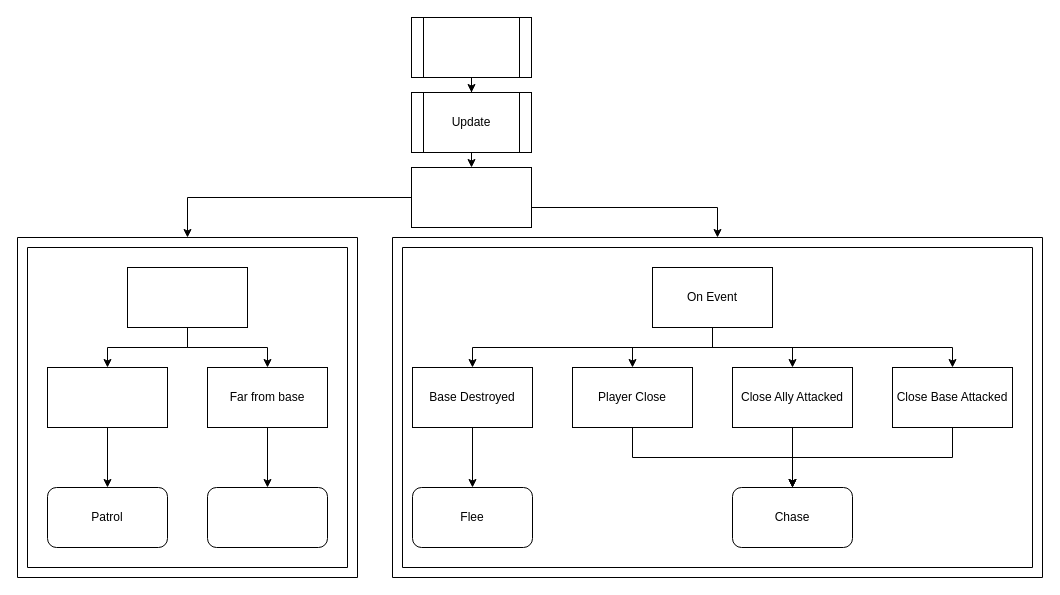
This 1060x595 diagram has some shape labels left out. Each missing label, with the centre of its shape:
Check For Event: the point at 471,197
Close to base: the point at 107,397
Explore: the point at 267,517
Start: the point at 471,47
Without Event: the point at 187,297
